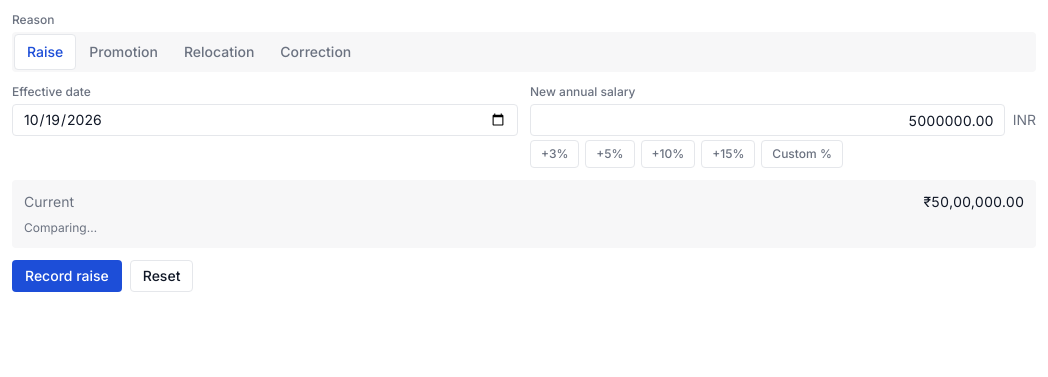
SalaryChangeForm › resets every field to its starting values
Click the radio button labelled "Promotion" at (124, 52), box [76,34,171,70]
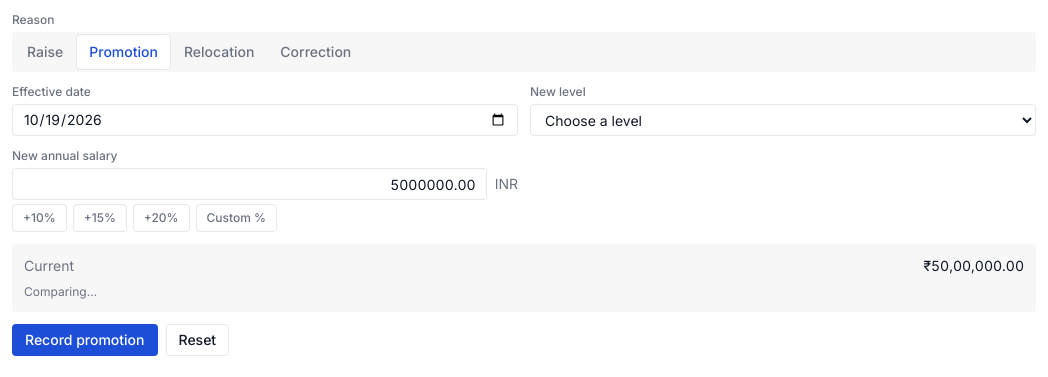
Replace the text in the field labelled "New annual salary" with "6000000" at (249, 184), box [12,168,487,200]
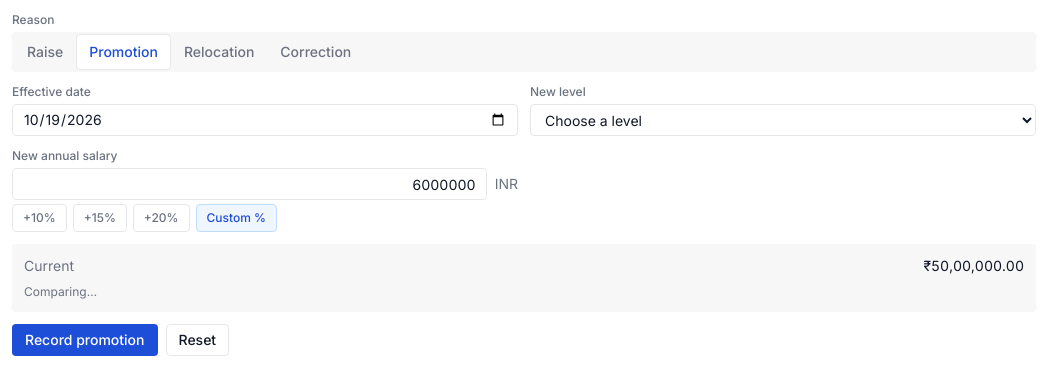
Type "2026-01-01" into the date field labelled "Effective date" at (265, 120), box [12,104,518,136]
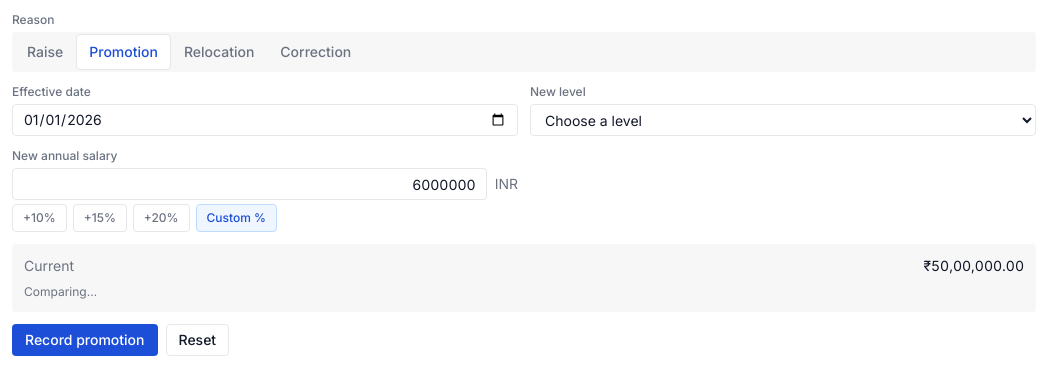
Click the button "Reset" at (197, 340), box [166,324,229,356]
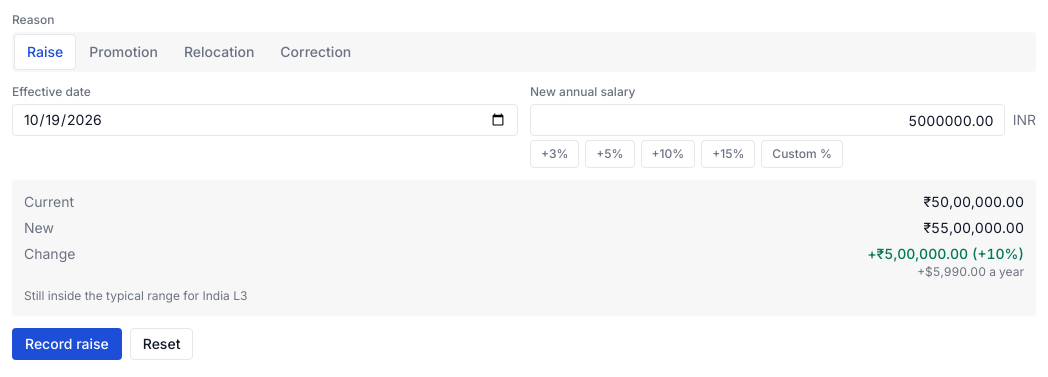
Now the field labelled "New annual salary" holds "5000000.00", box [530,104,1005,136]
Now the date field labelled "Effective date" holds "2026-10-19", box [12,104,518,136]
